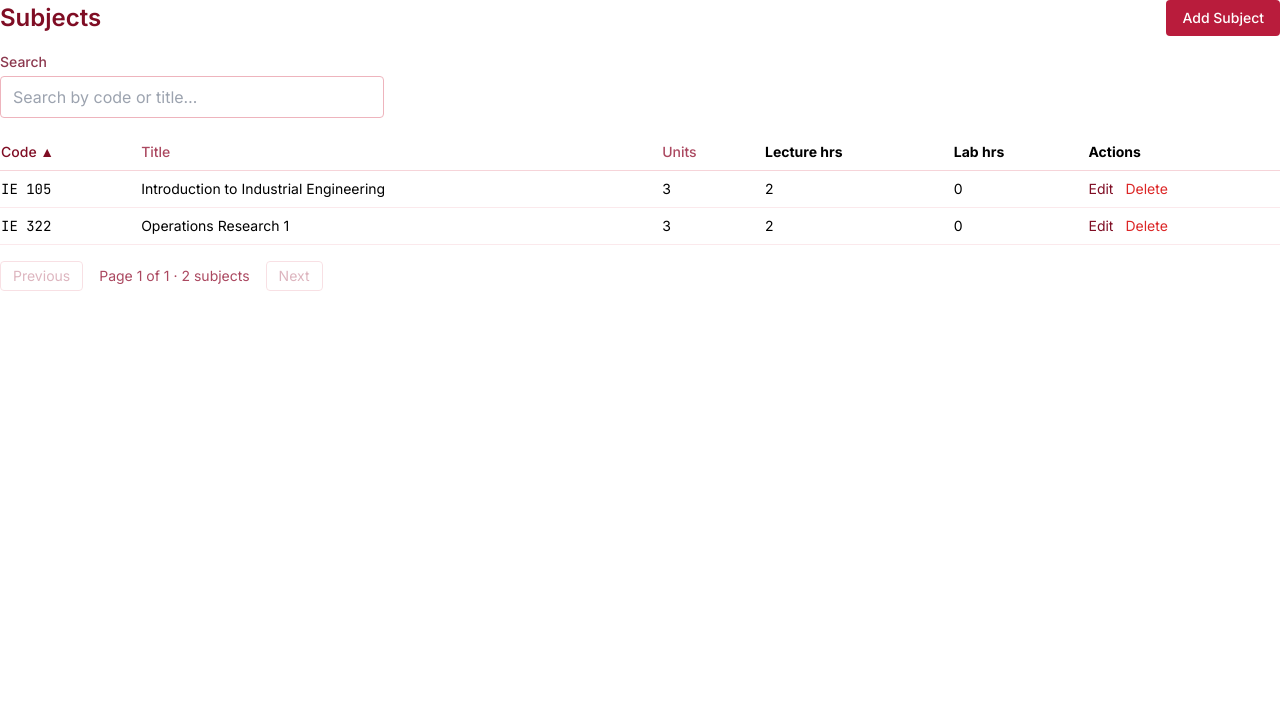
Test: SubjectsPage — edit › pre-fills the modal and saves edits in place
Click the button "Edit" in the row of "IE 105": (1101, 189) [1088,179,1114,199]
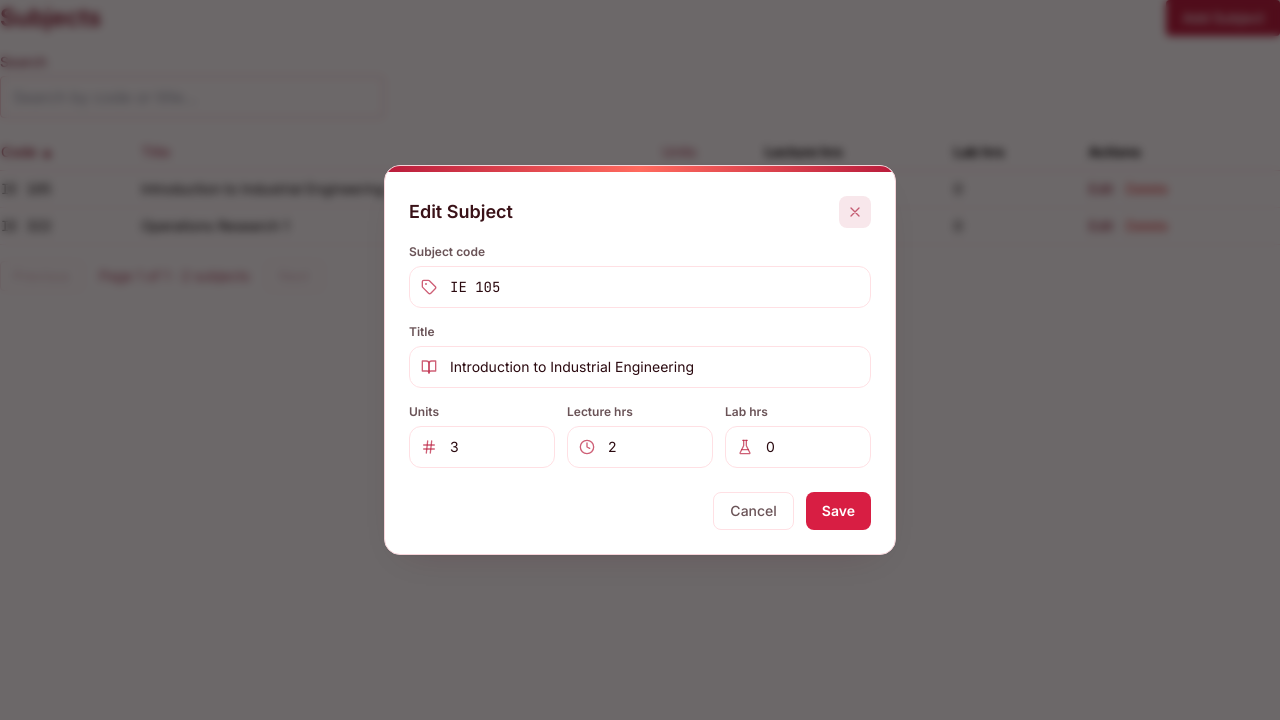
Now the dialog shows "Edit Subject", box [409,201,513,222]
Now the field labelled "Title" holds "Introduction to Industrial Engineering"
Replace the text in the field labelled "Title" with "Intro to IE": (640, 367) [409,346,871,388]
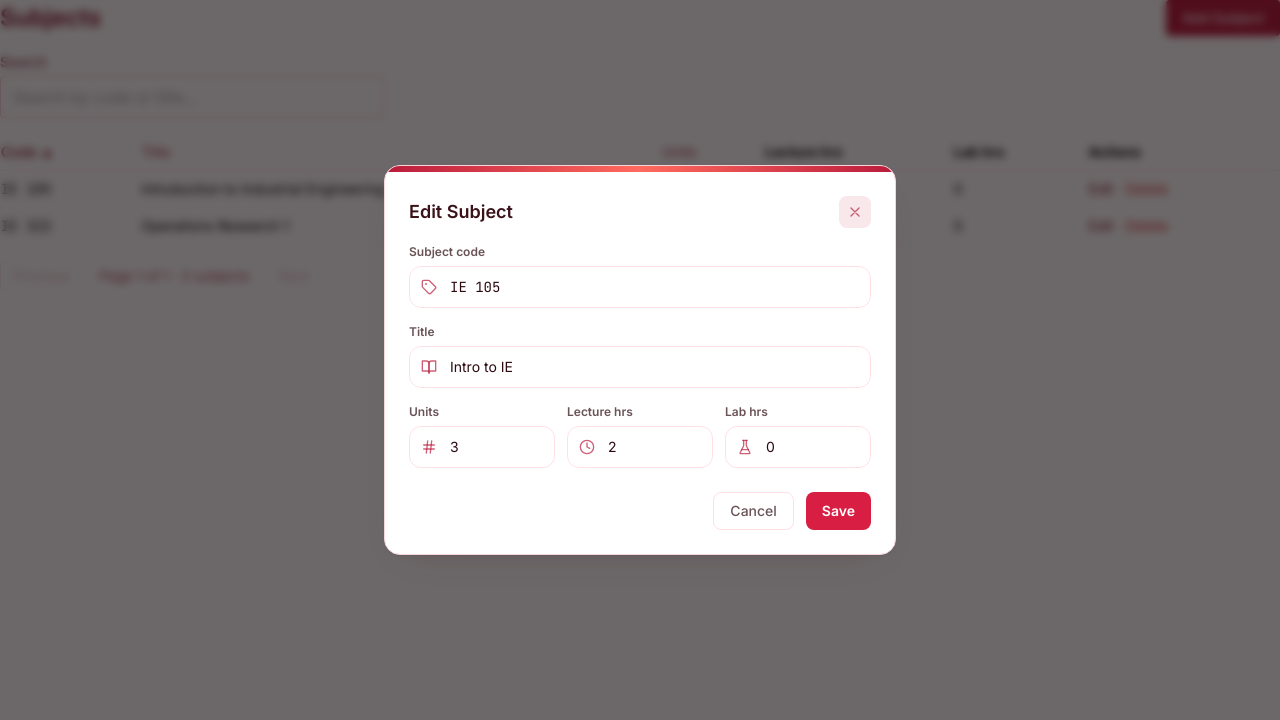
Click the button "Save": (838, 511) [806,492,871,530]
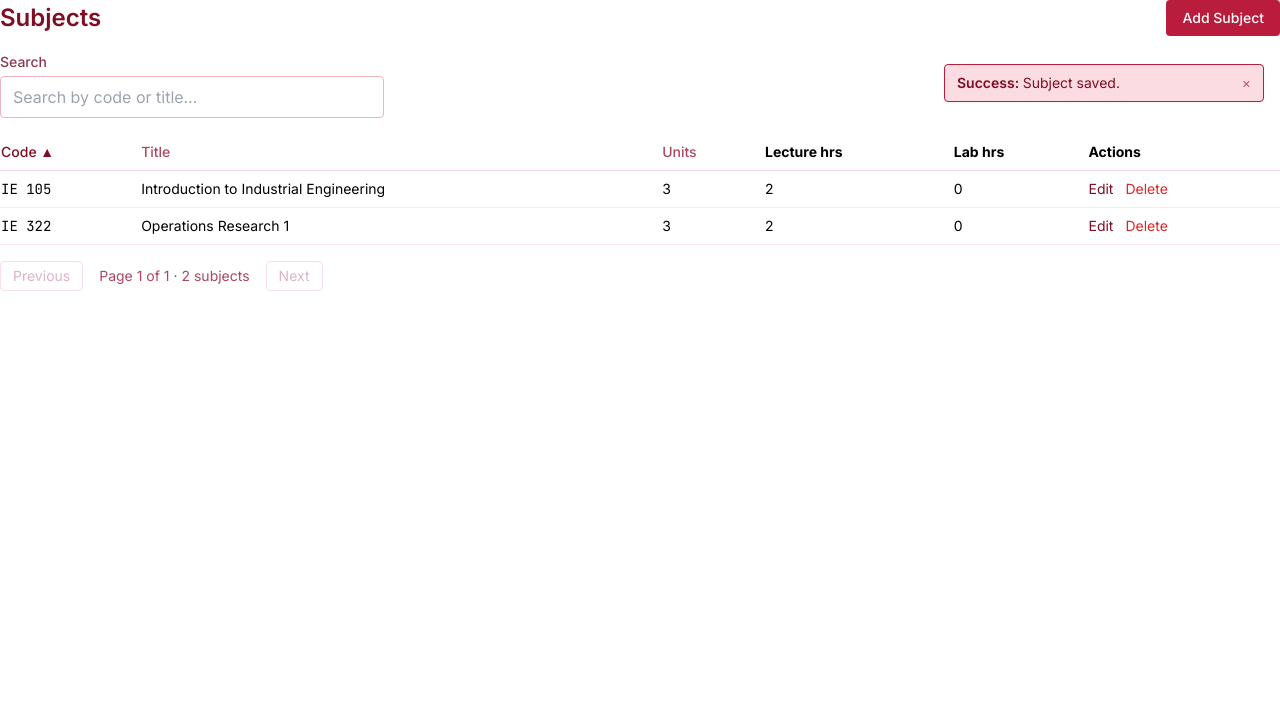
Now the text "Success: Subject saved." is shown, box [957,73,1120,93]
